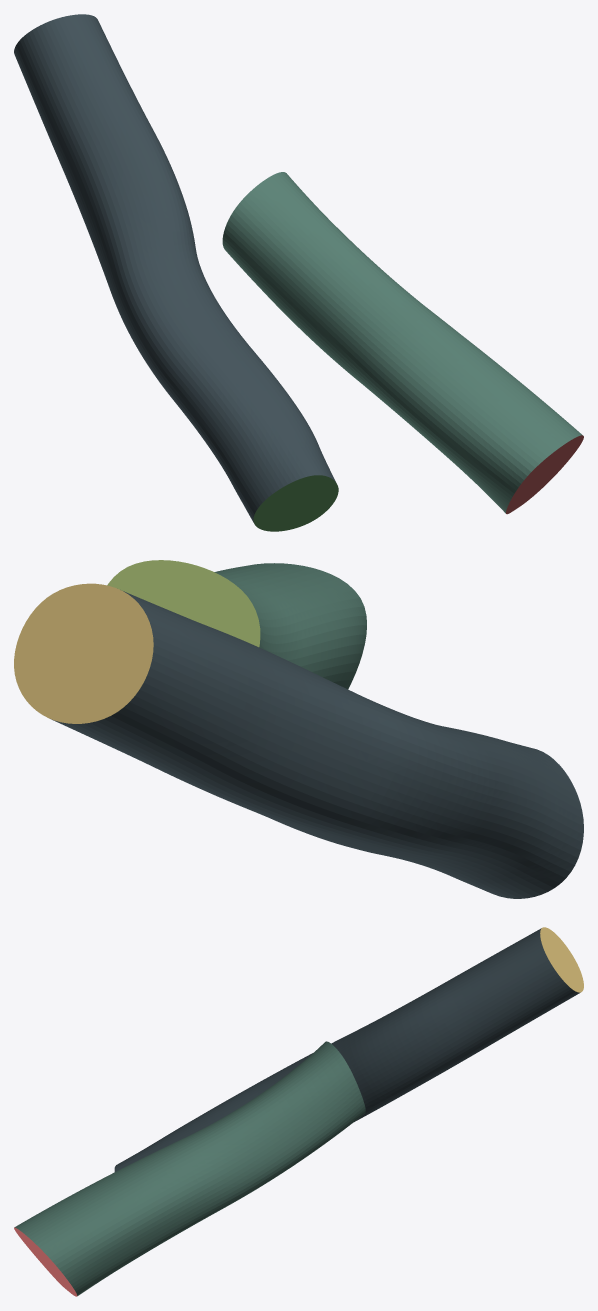
Rendered from end_to_side_pre.vtp.fbx.
3 views of the same model, one above another, from view 1: azimuth 30°, elevation 25°; view 2: azimuth 150°, elevation 25°; view 3: azimuth 270°, elevation 25° (orthographic). The views are drawn at different scales.
Visible parts, largest first — view 1: imagetostl_mesh0; view 2: imagetostl_mesh0; view 3: imagetostl_mesh0.
Boxes of the visible parts, bbox=[...] form: imagetostl_mesh0: bbox=[14, 14, 583, 531]; imagetostl_mesh0: bbox=[14, 560, 583, 898]; imagetostl_mesh0: bbox=[14, 927, 583, 1296].
Size of the model in its own units: 2821 by 3124 by 5413.
